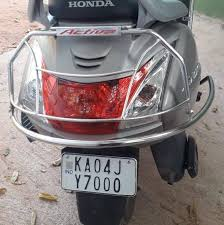doublelinenumberplate: (60, 151, 138, 197)
